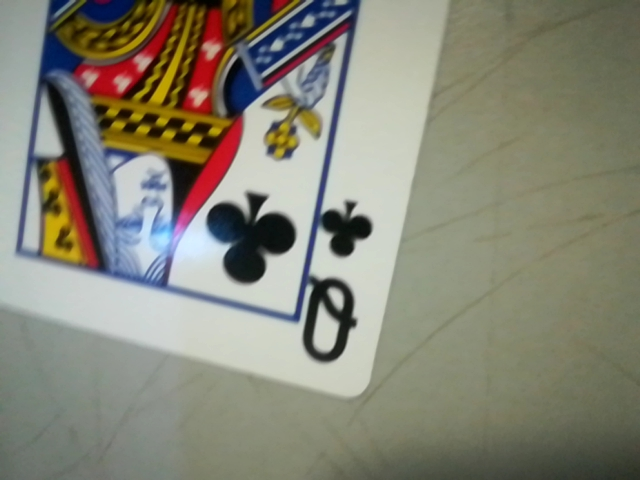mh q: (296, 189, 384, 382)
